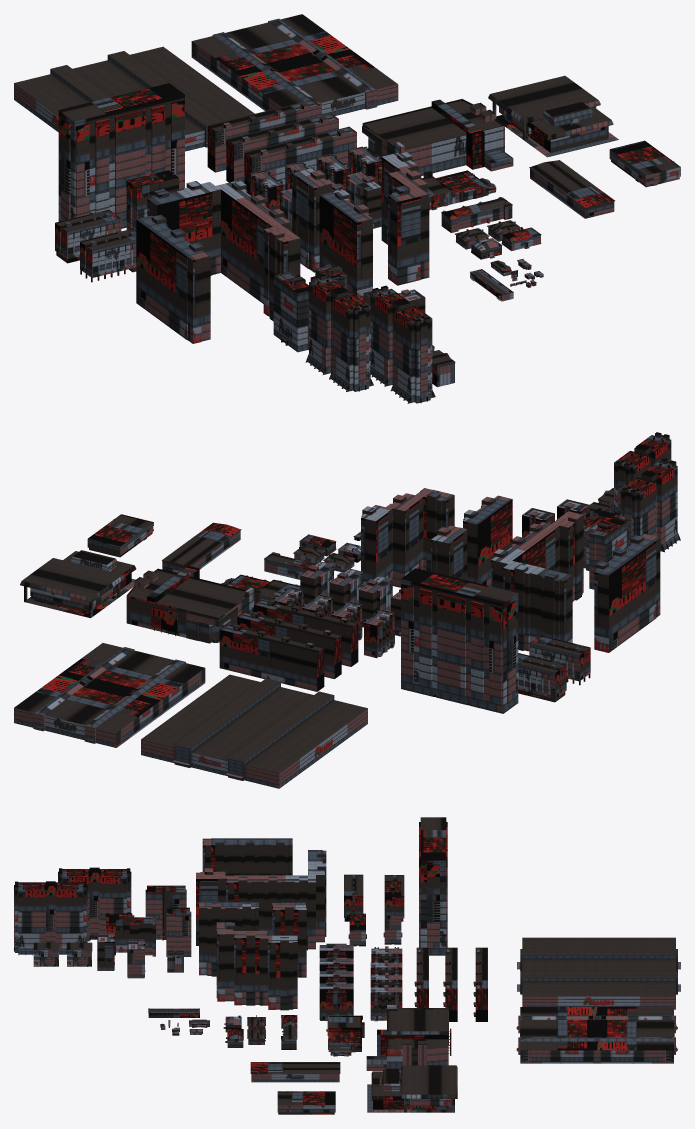
Rendered from sov.fbx.
3 renders of one model, top to bottom at view 1: azimuth 30°, elevation 25°; view 2: azimuth 150°, elevation 25°; view 3: azimuth 270°, elevation 25°, orthographic. The views are drawn at different scales.
Parts seen in each view (by area): view 1: office01, ikea1, td_kope4_4, auchan1, mall, td_kope5_5, theatre01, house01.001, house01, td_kope3_3, td_kope2_2, house1605am12-01 (+18 smaller); view 2: auchan1, office01, ikea1, td_kope4_4, mall, td_kope3_3, td_kope5_5, theatre01, house1605am12-01.002, house01, td_kope2_2, house1605am12-01.001 (+16 smaller); view 3: auchan1, ikea1, td_kope3_3, td_kope4_4, house01.001, mall, theatre01, office01, td_kope5_5, house01, td_kope2_2, sklad1 (+24 smaller).
Part boxes in pixels (box(x1,y1,x2,y2)): office01: box(58, 83, 184, 228); ikea1: box(191, 14, 398, 115); td_kope4_4: box(147, 181, 300, 321); auchan1: box(14, 46, 254, 151); mall: box(362, 99, 513, 175); td_kope5_5: box(136, 214, 210, 343); theatre01: box(488, 75, 618, 157); house01.001: box(370, 285, 435, 403); house01: box(305, 274, 373, 391); td_kope3_3: box(381, 152, 429, 285); td_kope2_2: box(319, 190, 372, 300); house1605am12-01: box(244, 126, 356, 194); auchan1: box(141, 674, 367, 788); office01: box(401, 568, 518, 713); ikea1: box(14, 643, 205, 747); td_kope4_4: box(491, 511, 583, 651); mall: box(126, 566, 254, 643); td_kope3_3: box(361, 488, 454, 587); td_kope5_5: box(594, 533, 660, 652); theatre01: box(20, 550, 136, 618); house1605am12-01.002: box(219, 624, 324, 691); house01: box(620, 458, 680, 552); td_kope2_2: box(463, 495, 512, 586); house1605am12-01.001: box(237, 611, 341, 678); auchan1: box(517, 937, 680, 1009); ikea1: box(516, 1007, 677, 1063); td_kope3_3: box(216, 922, 297, 1010); td_kope4_4: box(196, 850, 326, 950); house01.001: box(14, 881, 87, 955); mall: box(366, 1005, 451, 1071); theatre01: box(367, 1065, 457, 1112); office01: box(419, 817, 447, 955); td_kope5_5: box(202, 838, 292, 875); house01: box(58, 867, 131, 941); td_kope2_2: box(199, 902, 258, 976); sklad1: box(250, 1062, 340, 1082).
Size of the model in its own units: 173546 by 36052 by 227939.
48 materials, 48 textured.
